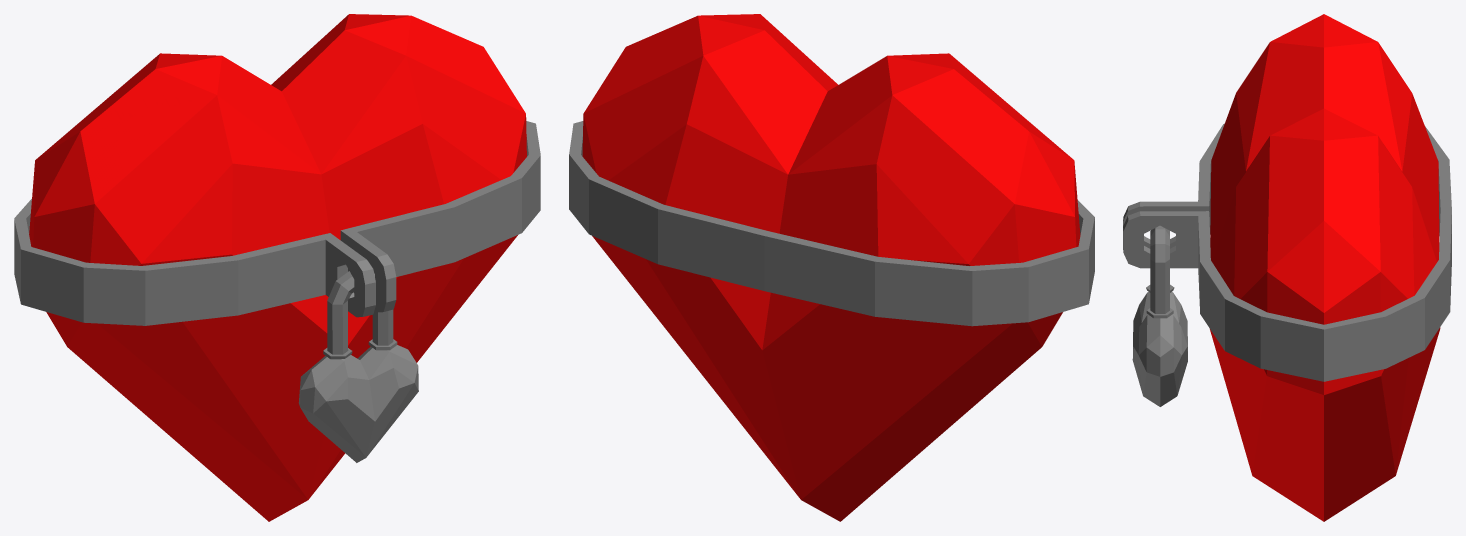
Rendered from Env_HatiBergembok_01a.fbx.
3 views of the same model, side by side, from view 1: azimuth 30°, elevation 25°; view 2: azimuth 150°, elevation 25°; view 3: azimuth 270°, elevation 25° (orthographic). The views are drawn at different scales.
Parts seen in each view (by area): view 1: Hati Bergembok; view 2: Hati Bergembok; view 3: Hati Bergembok.
Part boxes in pixels (left/top/right/bottom): Hati Bergembok: left=14, top=14, right=540, bottom=521; Hati Bergembok: left=569, top=14, right=1094, bottom=521; Hati Bergembok: left=1123, top=14, right=1451, bottom=521.
Bounding box in the file's own units: 98.09 × 87.43 × 57.23.
